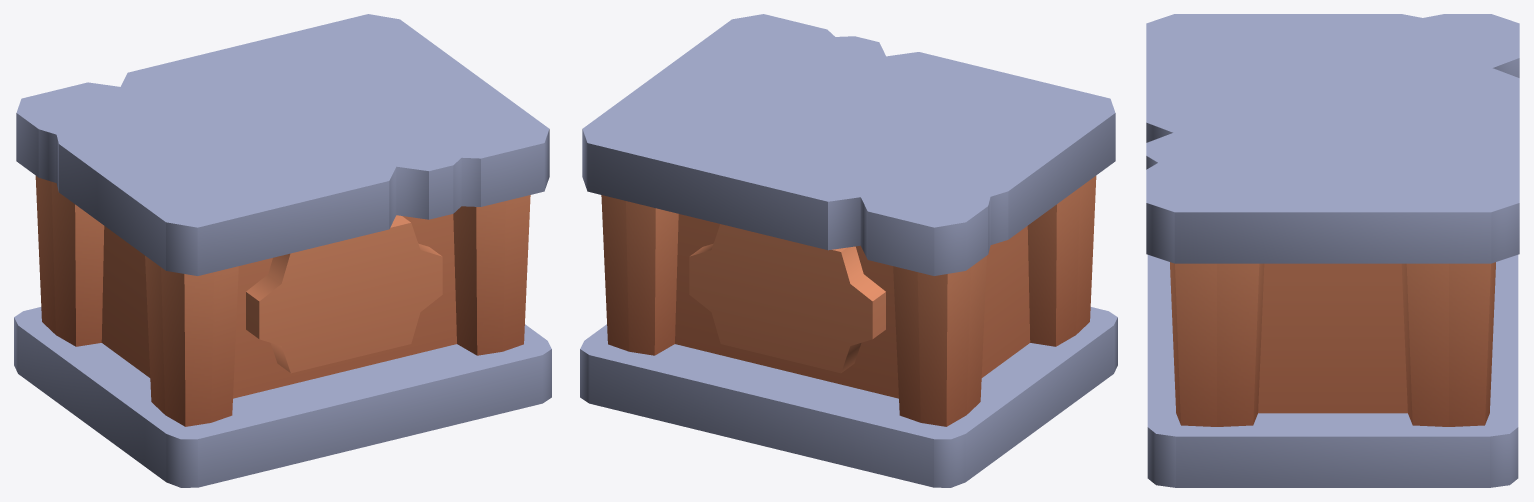
The model's file is altar-wood.glb.
3 renders of one model, left to right at view 1: azimuth 30°, elevation 25°; view 2: azimuth 150°, elevation 25°; view 3: azimuth 270°, elevation 25°, orthographic. The views are drawn at different scales.
Parts seen in each view (by area): view 1: altar-wood; view 2: altar-wood; view 3: altar-wood.
Boxes of the visible parts, bbox=[...] form: altar-wood: bbox=[14, 14, 551, 487]; altar-wood: bbox=[580, 14, 1117, 487]; altar-wood: bbox=[1146, 14, 1519, 487].
Bounding box in the file's own units: 0.8272 × 0.5376 × 0.6587.
1 material, 1 textured.
